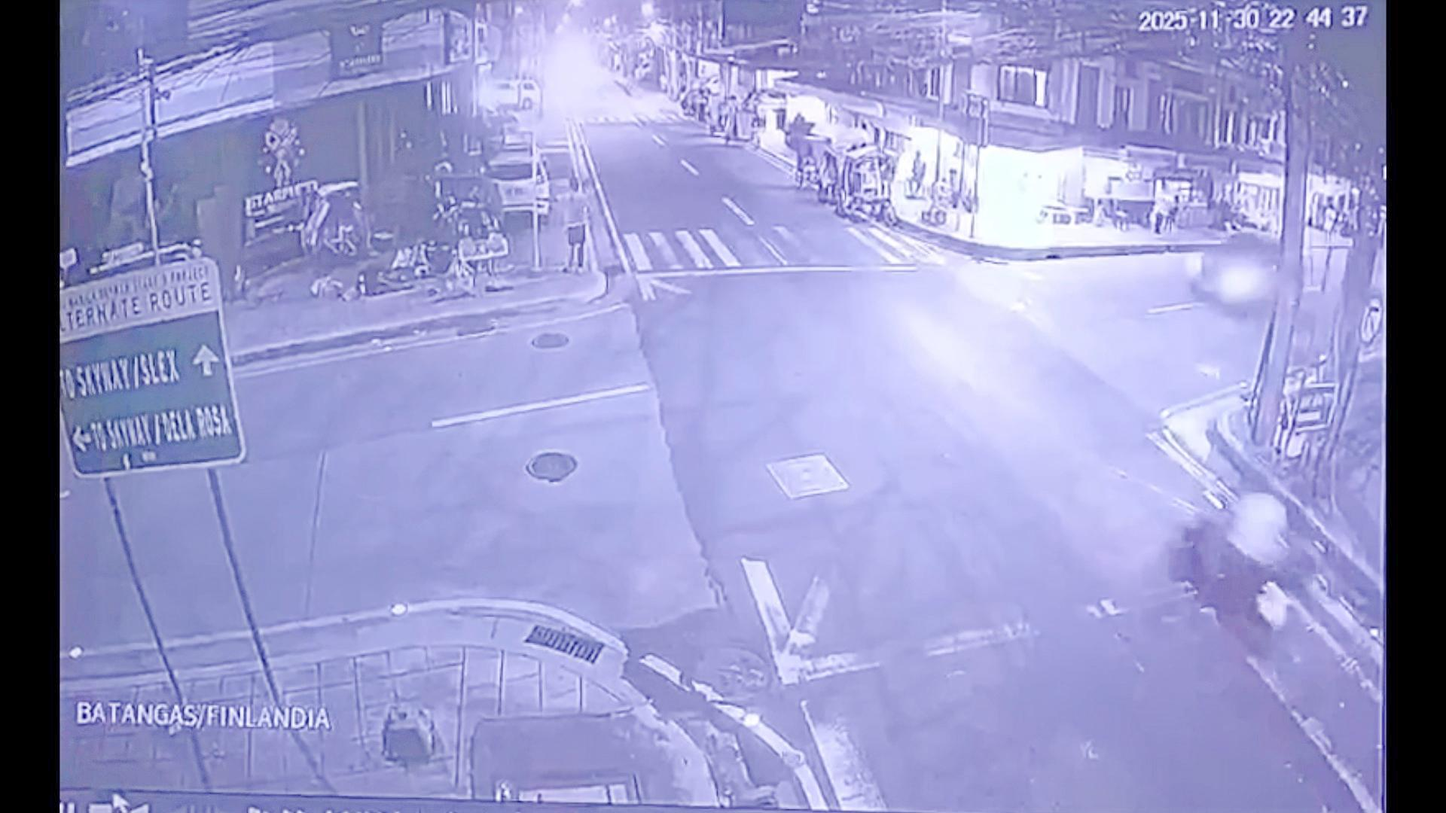Car: (1201, 218, 1289, 313)
Motor: (1194, 476, 1295, 639)
